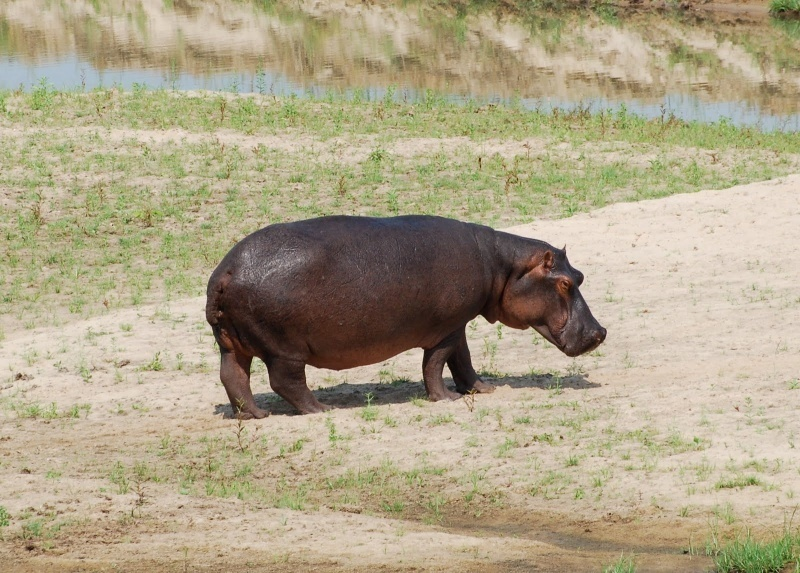hipopotamo: (200, 197, 614, 415)
